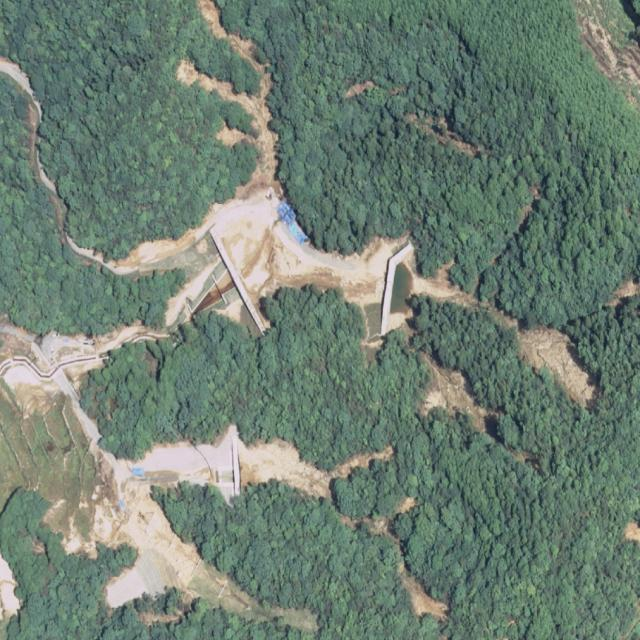landslide: (108, 1, 406, 347), (519, 325, 597, 407), (421, 355, 491, 433), (241, 444, 329, 497)
